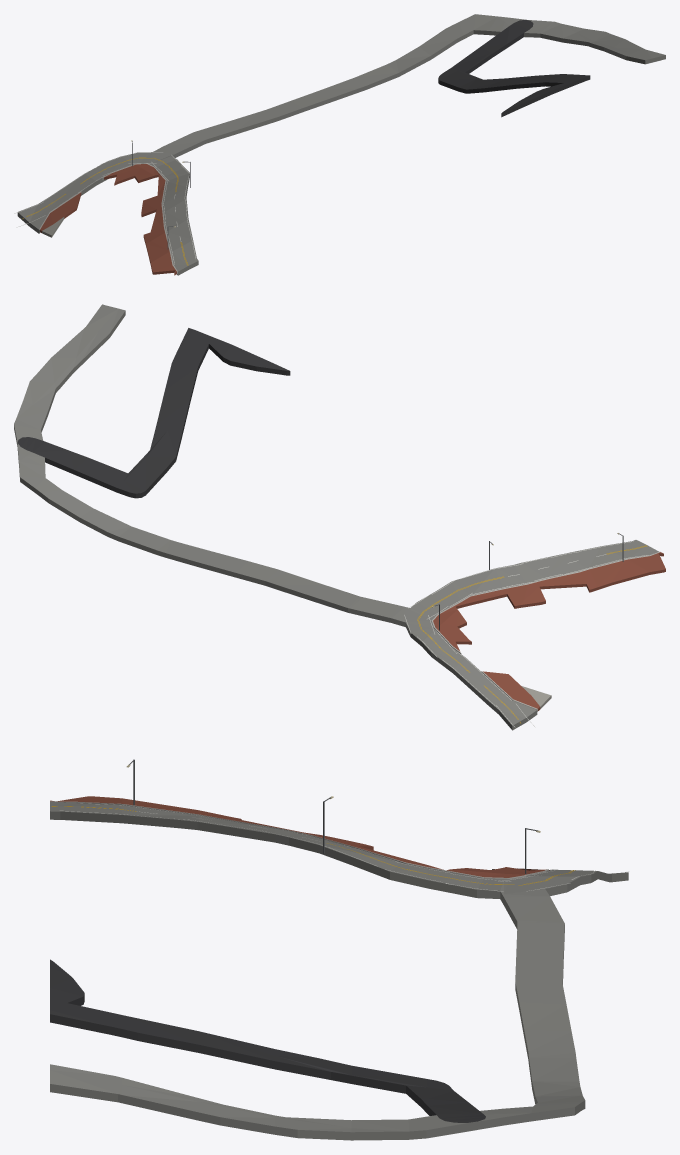
3 renders of one model, top to bottom at view 1: azimuth 30°, elevation 25°; view 2: azimuth 150°, elevation 25°; view 3: azimuth 270°, elevation 25°, orthographic. The views are drawn at different scales.
Size of the model in its own units: 156 by 42.24 by 75.97.
